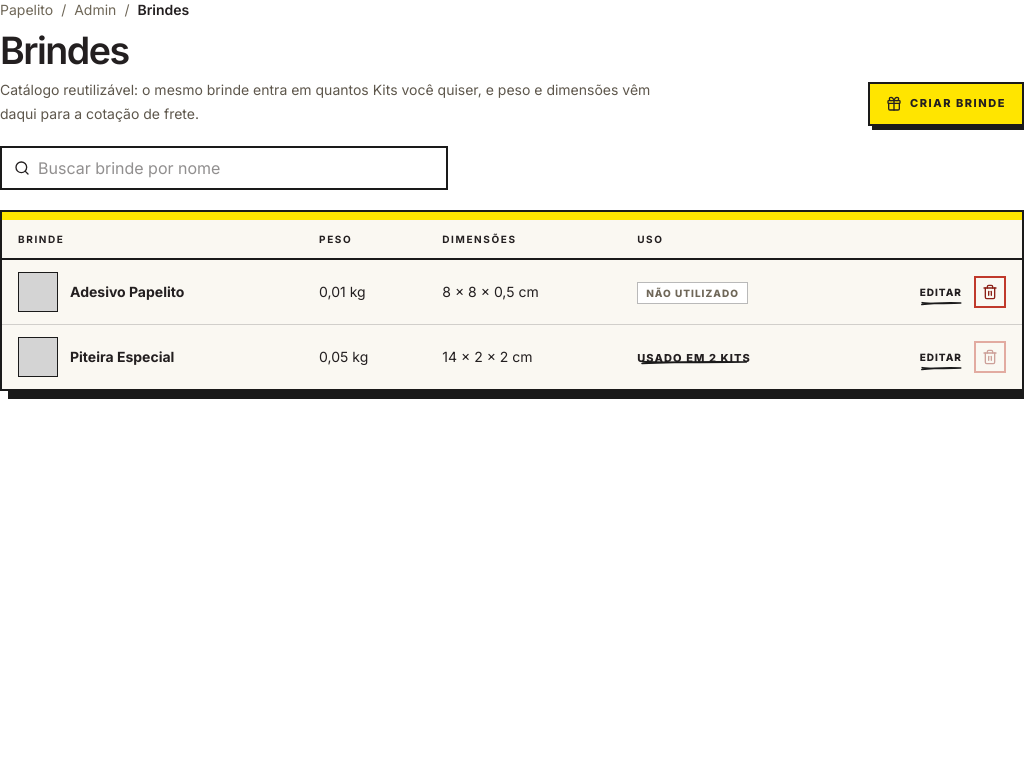
MerchandiseManager › exclui brinde sem uso e barra o brinde utilizado
Expected: the button named "Excluir Piteira Especial" is disabled, [974,341,1006,373]
What coordinates should you click on to do the following:
click the button named "Excluir Adesivo Papelito"
I would click on:
 (990, 292)
Its box is [974,276,1006,308].
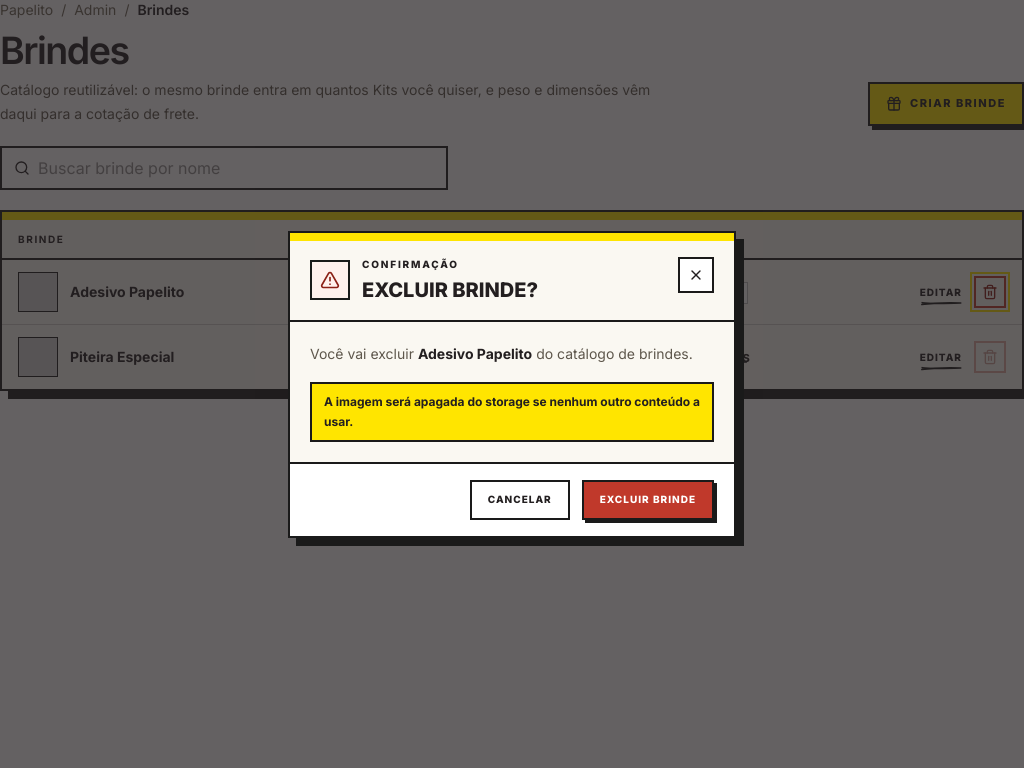
What coordinates should you click on to do the following:
click the button "Excluir brinde"
I would click on:
 (648, 500)
Its box is [582,480,714,520].
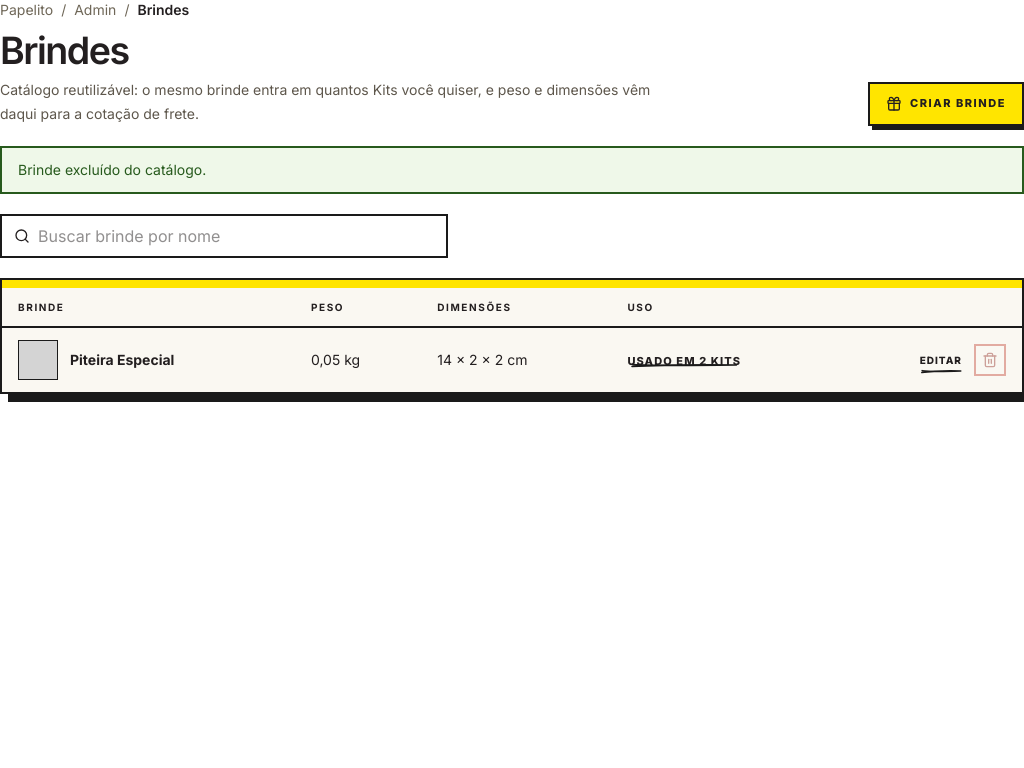
Now the text "Adesivo Papelito" is gone
